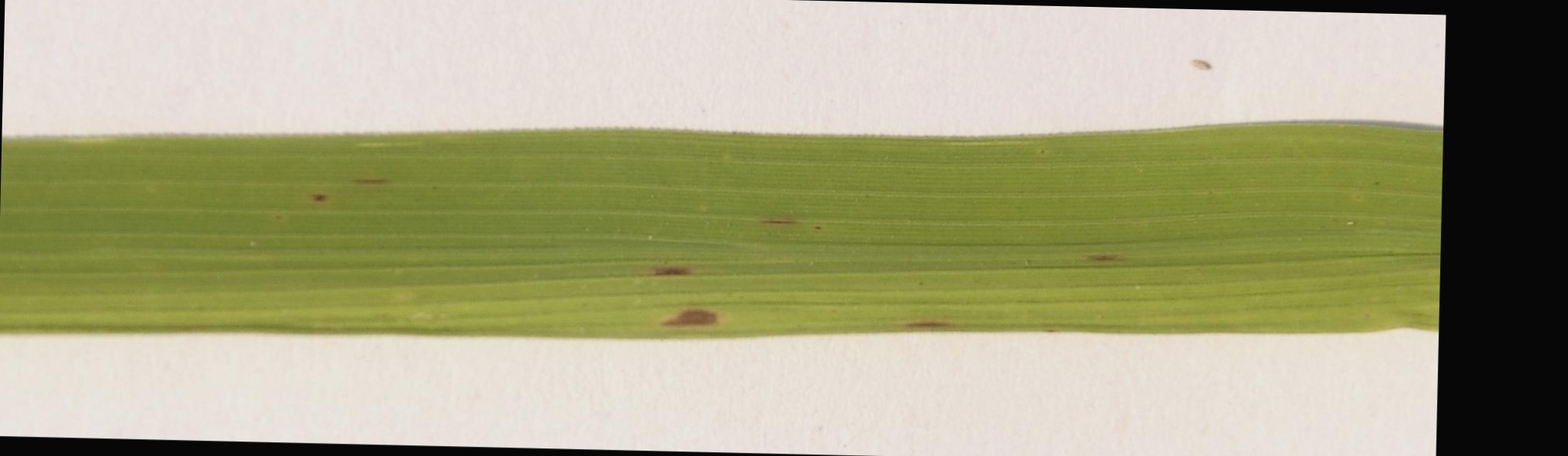Bacterial_Leaf_Blight: (640, 250, 739, 331), (346, 168, 411, 192), (891, 316, 965, 330), (294, 185, 331, 207)
